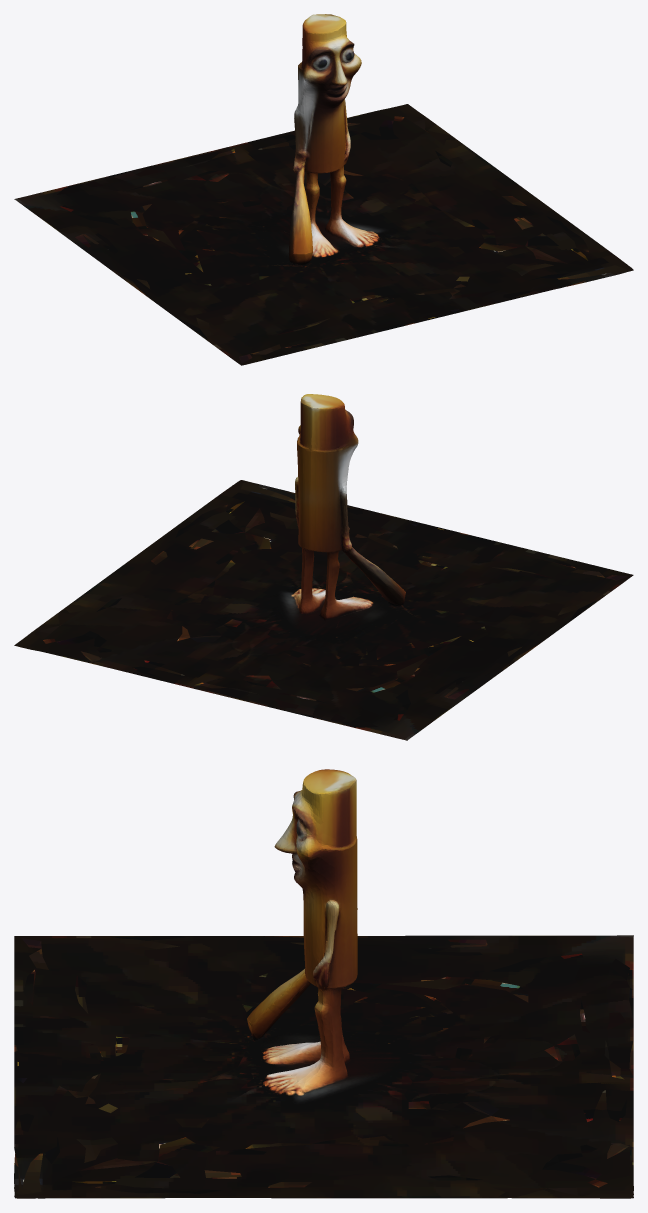
Rendered from Tung tung tung Sahur.glb.
3 views of the same model, one above another, from view 1: azimuth 30°, elevation 25°; view 2: azimuth 150°, elevation 25°; view 3: azimuth 270°, elevation 25° (orthographic). The views are drawn at different scales.
Parts seen in each view (by area): view 1: world; view 2: world; view 3: world.
Part boxes in pixels (left/top/right/bottom): world: left=14, top=14, right=633, bottom=365; world: left=14, top=394, right=633, bottom=740; world: left=14, top=769, right=633, bottom=1198.
Bounding box in the file's own units: 1 × 0.519 × 1.
1 material, 1 textured.
